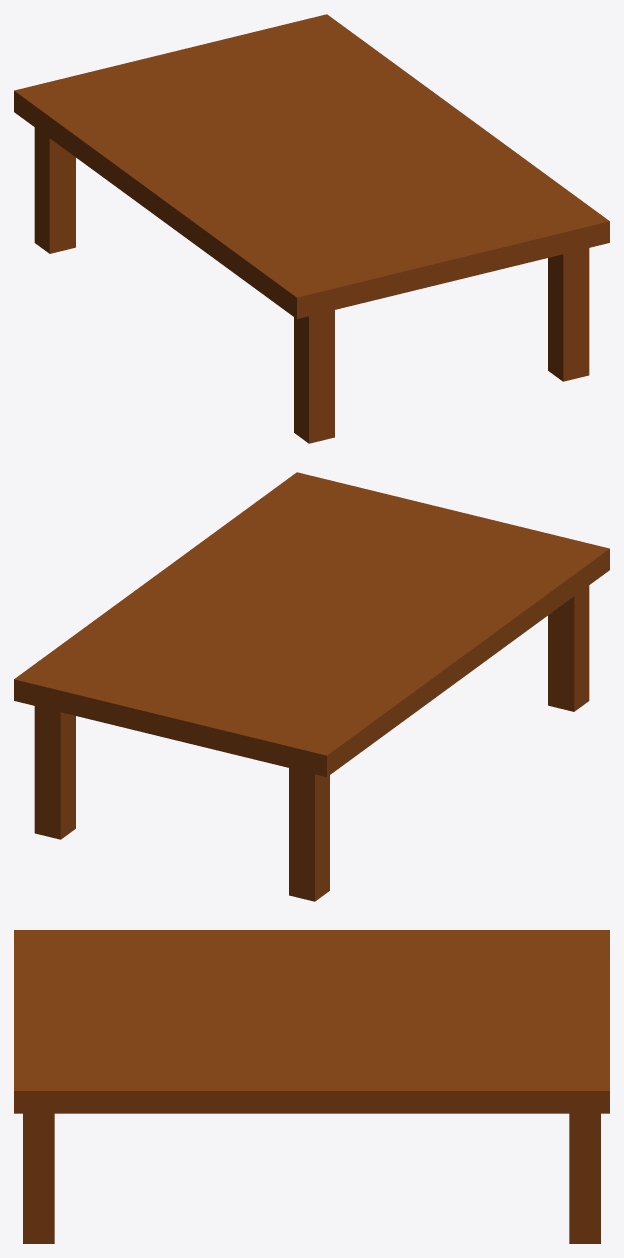
The model's file is WoodenDesk.fbx.
3 views of the same model, one above another, from view 1: azimuth 30°, elevation 25°; view 2: azimuth 150°, elevation 25°; view 3: azimuth 270°, elevation 25° (orthographic). The views are drawn at different scales.
Parts seen in each view (by area): view 1: Cube.001; view 2: Cube.001; view 3: Cube.001.
Part boxes in pixels (bbox=[...]): Cube.001: bbox=[14, 14, 609, 443]; Cube.001: bbox=[14, 472, 609, 901]; Cube.001: bbox=[14, 930, 609, 1243].
Size of the model in its own units: 97.06 by 45.41 by 152.
